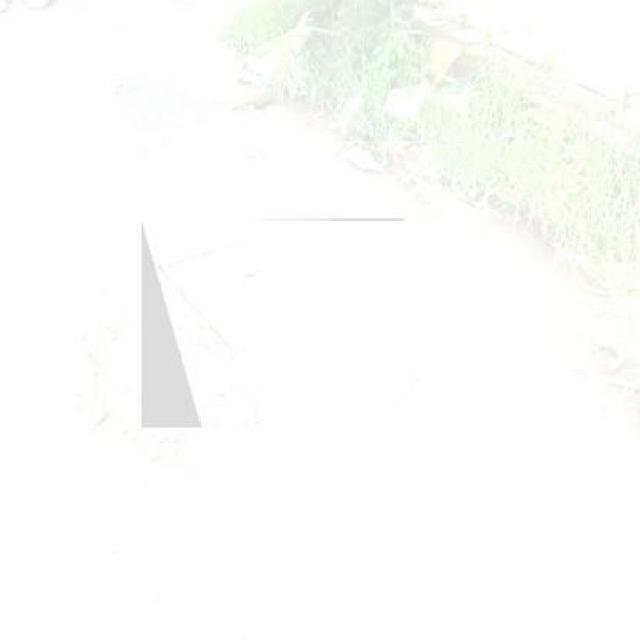Manhole: (142, 217, 404, 428)
